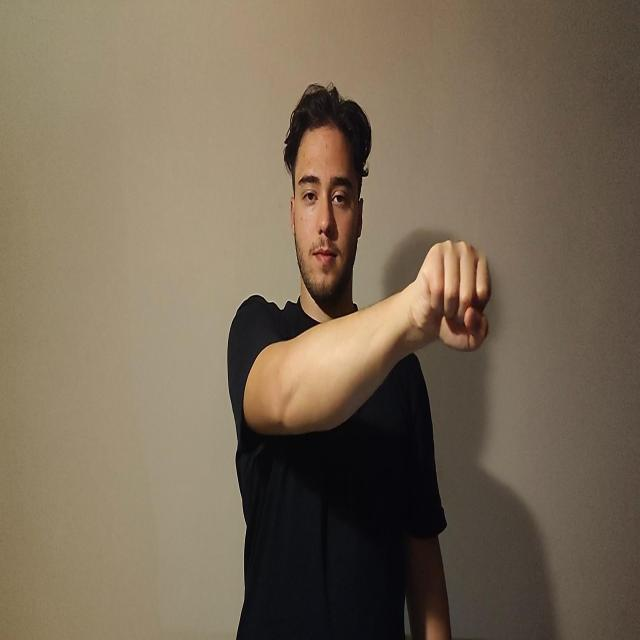yes: (407, 238, 492, 352)
